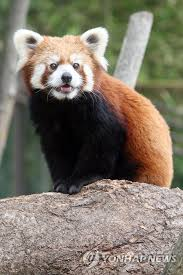redPanda: (10, 27, 177, 192)
